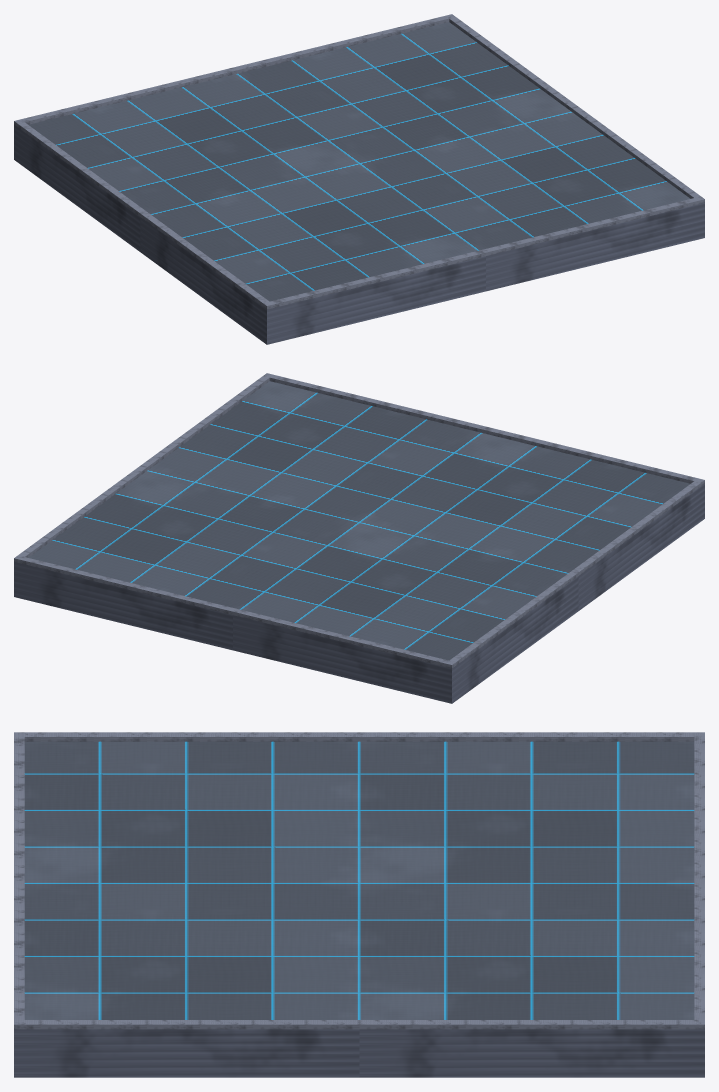
File: arena.glb
3 renders of one model, top to bottom at view 1: azimuth 30°, elevation 25°; view 2: azimuth 150°, elevation 25°; view 3: azimuth 270°, elevation 25°, orthographic. The views are drawn at different scales.
Visible parts, largest first — view 1: arena; view 2: arena; view 3: arena.
Part boxes in pixels (x1=…): arena: x1=14, y1=14, x2=704, y2=344; arena: x1=14, y1=373, x2=704, y2=703; arena: x1=14, y1=732, x2=704, y2=1077.
Size of the model in its own units: 13 by 1.1 by 13.
Materials: 3 (3 with a texture image).
